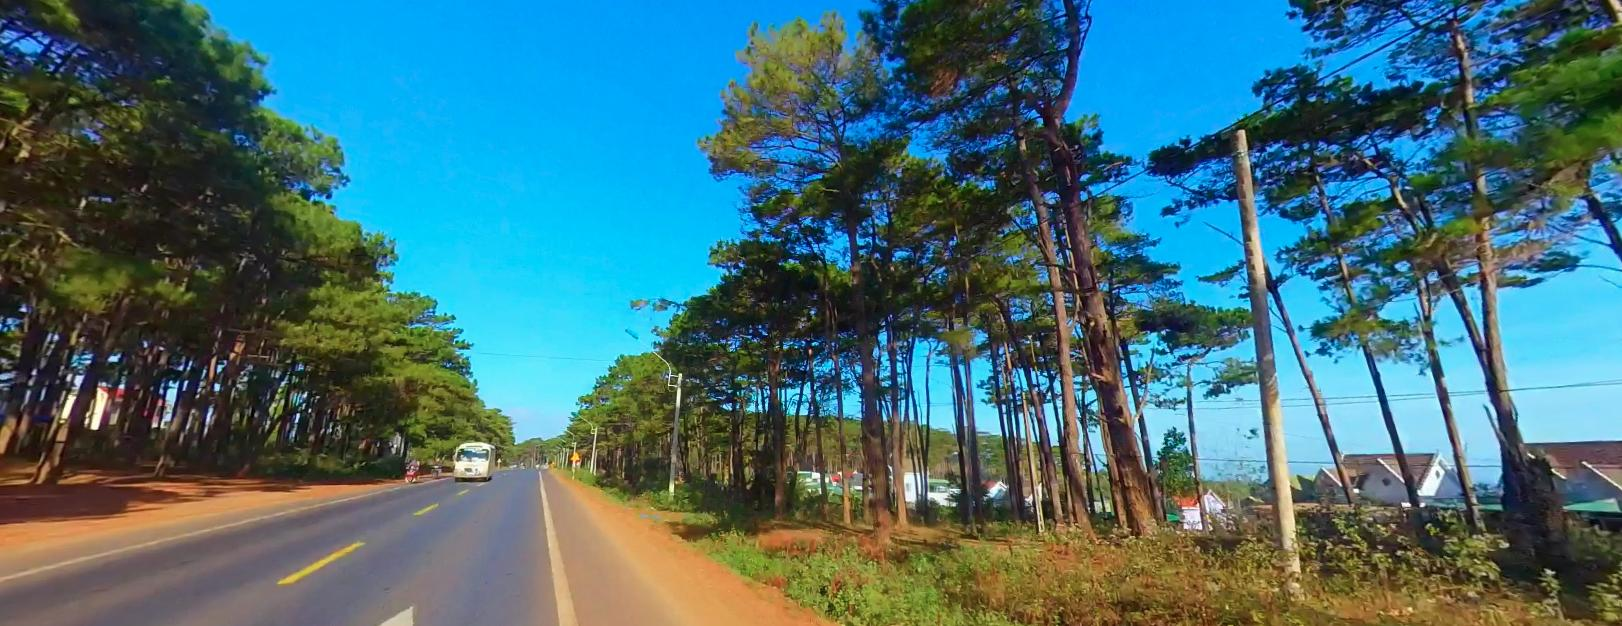Nguy hiem: (569, 450, 581, 459), (569, 451, 579, 460)
